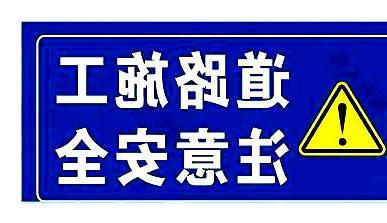sign: (30, 27, 387, 200)
